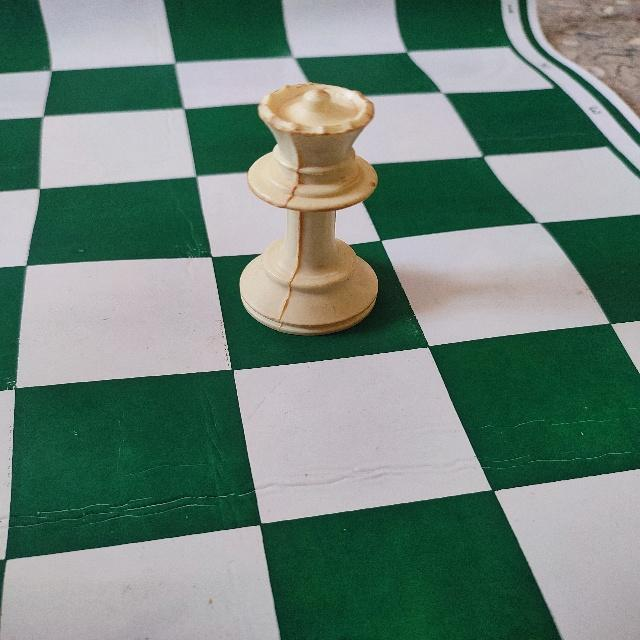Queen: (236, 78, 383, 341)
